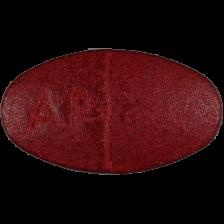68220-085: (0, 0, 224, 224)
